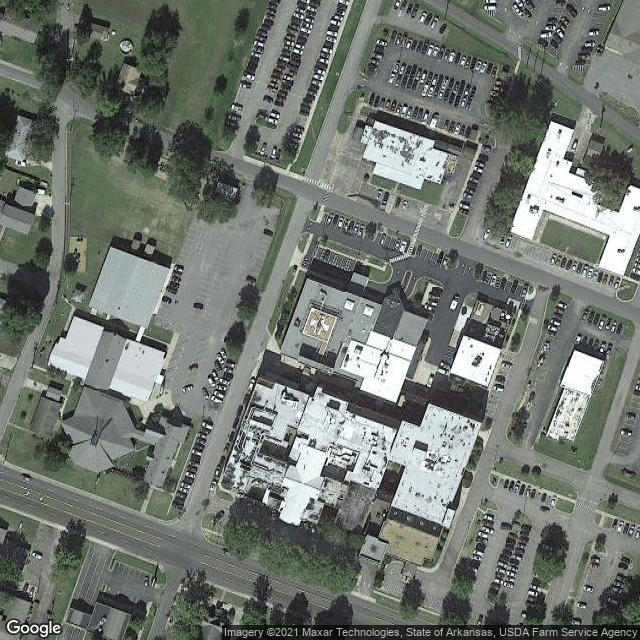Helipad: (304, 307, 335, 342)
